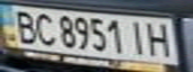1: (106, 17, 127, 54)
5: (87, 16, 109, 52)
8: (54, 11, 75, 48)
9: (72, 15, 90, 51)
B: (6, 7, 39, 44)
C: (30, 10, 57, 46)
H: (142, 19, 175, 57)
I: (124, 18, 151, 56)
